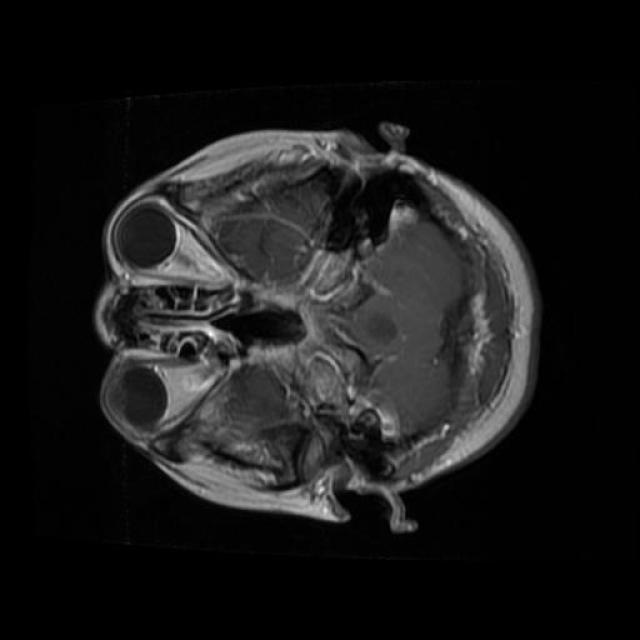Glioma: (167, 422, 311, 489), (338, 278, 396, 402)
